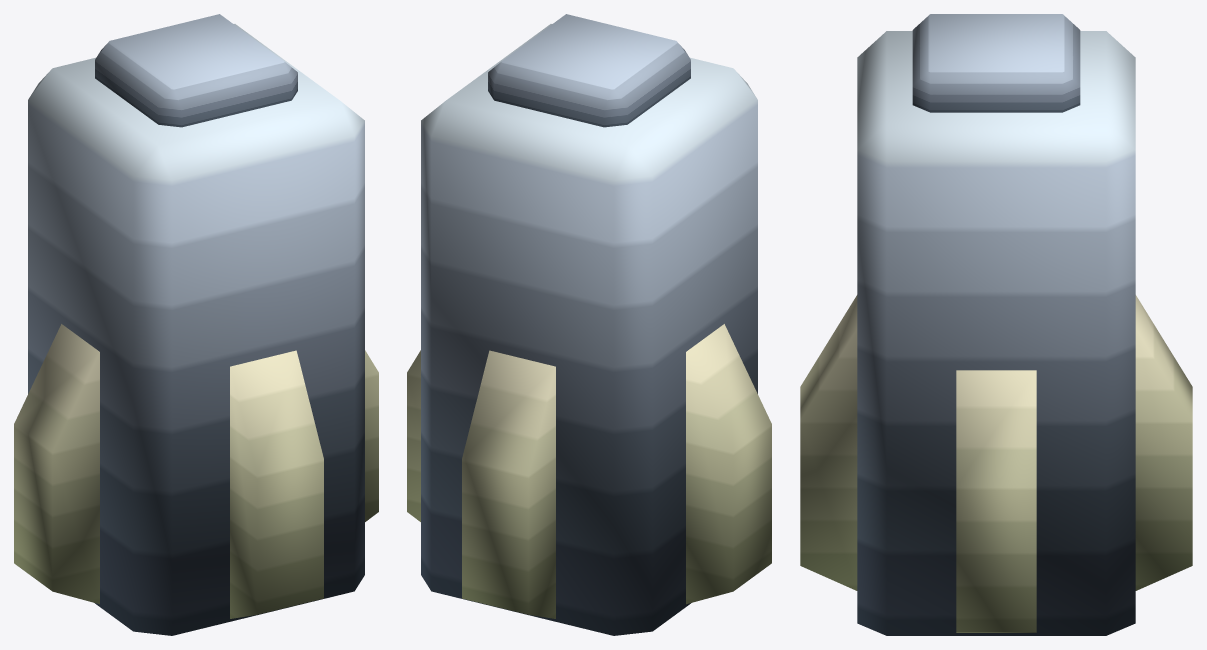
The model's file is wall_002.fbx.
3 renders of one model, left to right at view 1: azimuth 30°, elevation 25°; view 2: azimuth 150°, elevation 25°; view 3: azimuth 270°, elevation 25°, orthographic. The views are drawn at different scales.
Visible parts, largest first — view 1: wall.002; view 2: wall.002; view 3: wall.002.
Part boxes in pixels (x1,y1,x2,y2): wall.002: (14, 14, 378, 635); wall.002: (407, 14, 771, 635); wall.002: (800, 14, 1192, 635).
Size of the model in its own units: 21.14 by 31.82 by 21.14.
